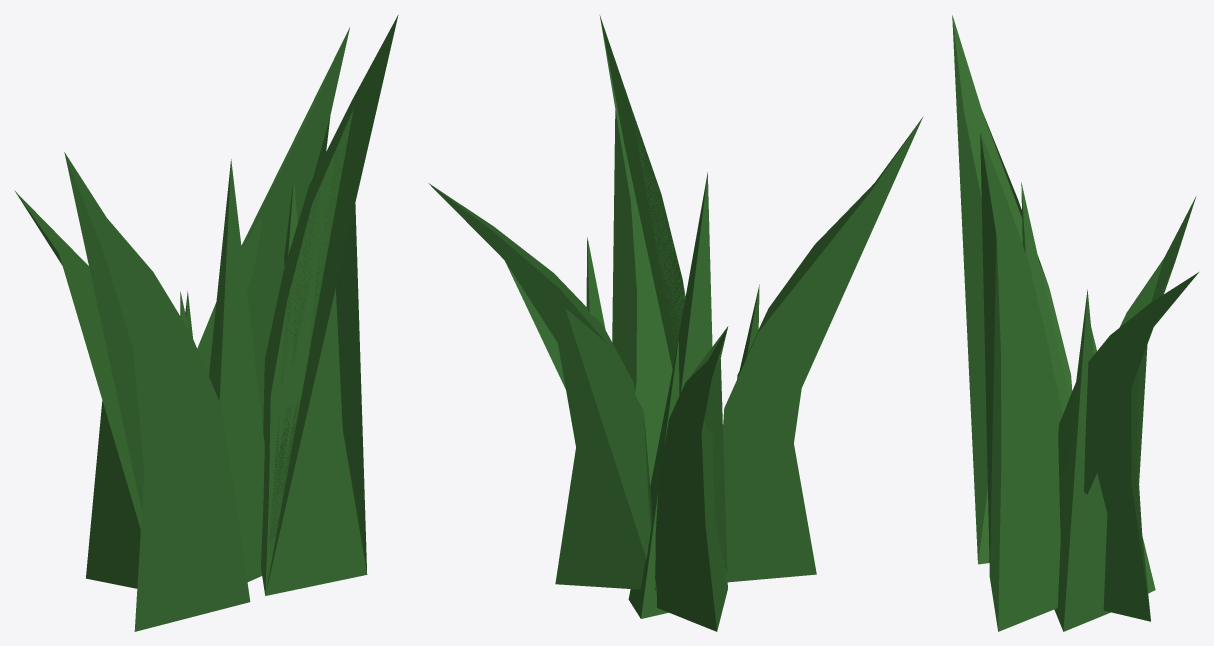
File: Rumput baru 3.fbx
3 renders of one model, left to right at view 1: azimuth 30°, elevation 25°; view 2: azimuth 150°, elevation 25°; view 3: azimuth 270°, elevation 25°, orthographic. The views are drawn at different scales.
Parts seen in each view (by area): view 1: Cone.005; view 2: Cone.005; view 3: Cone.005.
Boxes of the visible parts, x1,y1,x2,y2 form: Cone.005: (14,15,398,631); Cone.005: (428,15,923,631); Cone.005: (952,15,1198,631).
Size of the model in its own units: 48.69 by 64.2 by 27.27.
